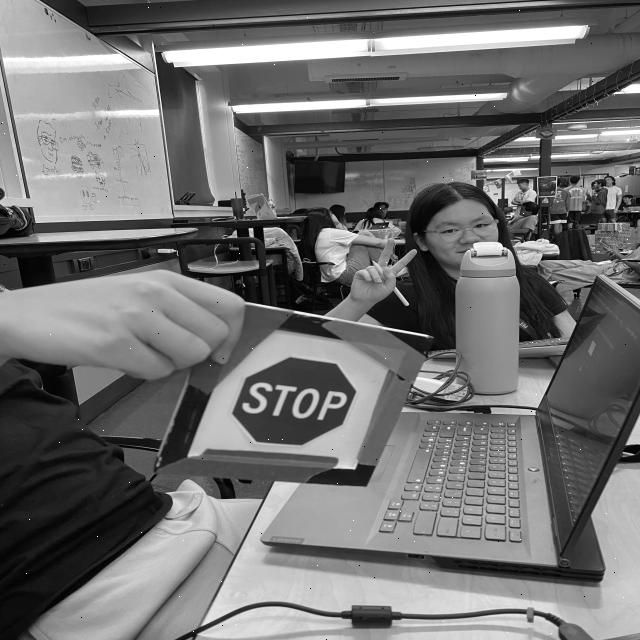stop: (225, 353, 360, 450)
